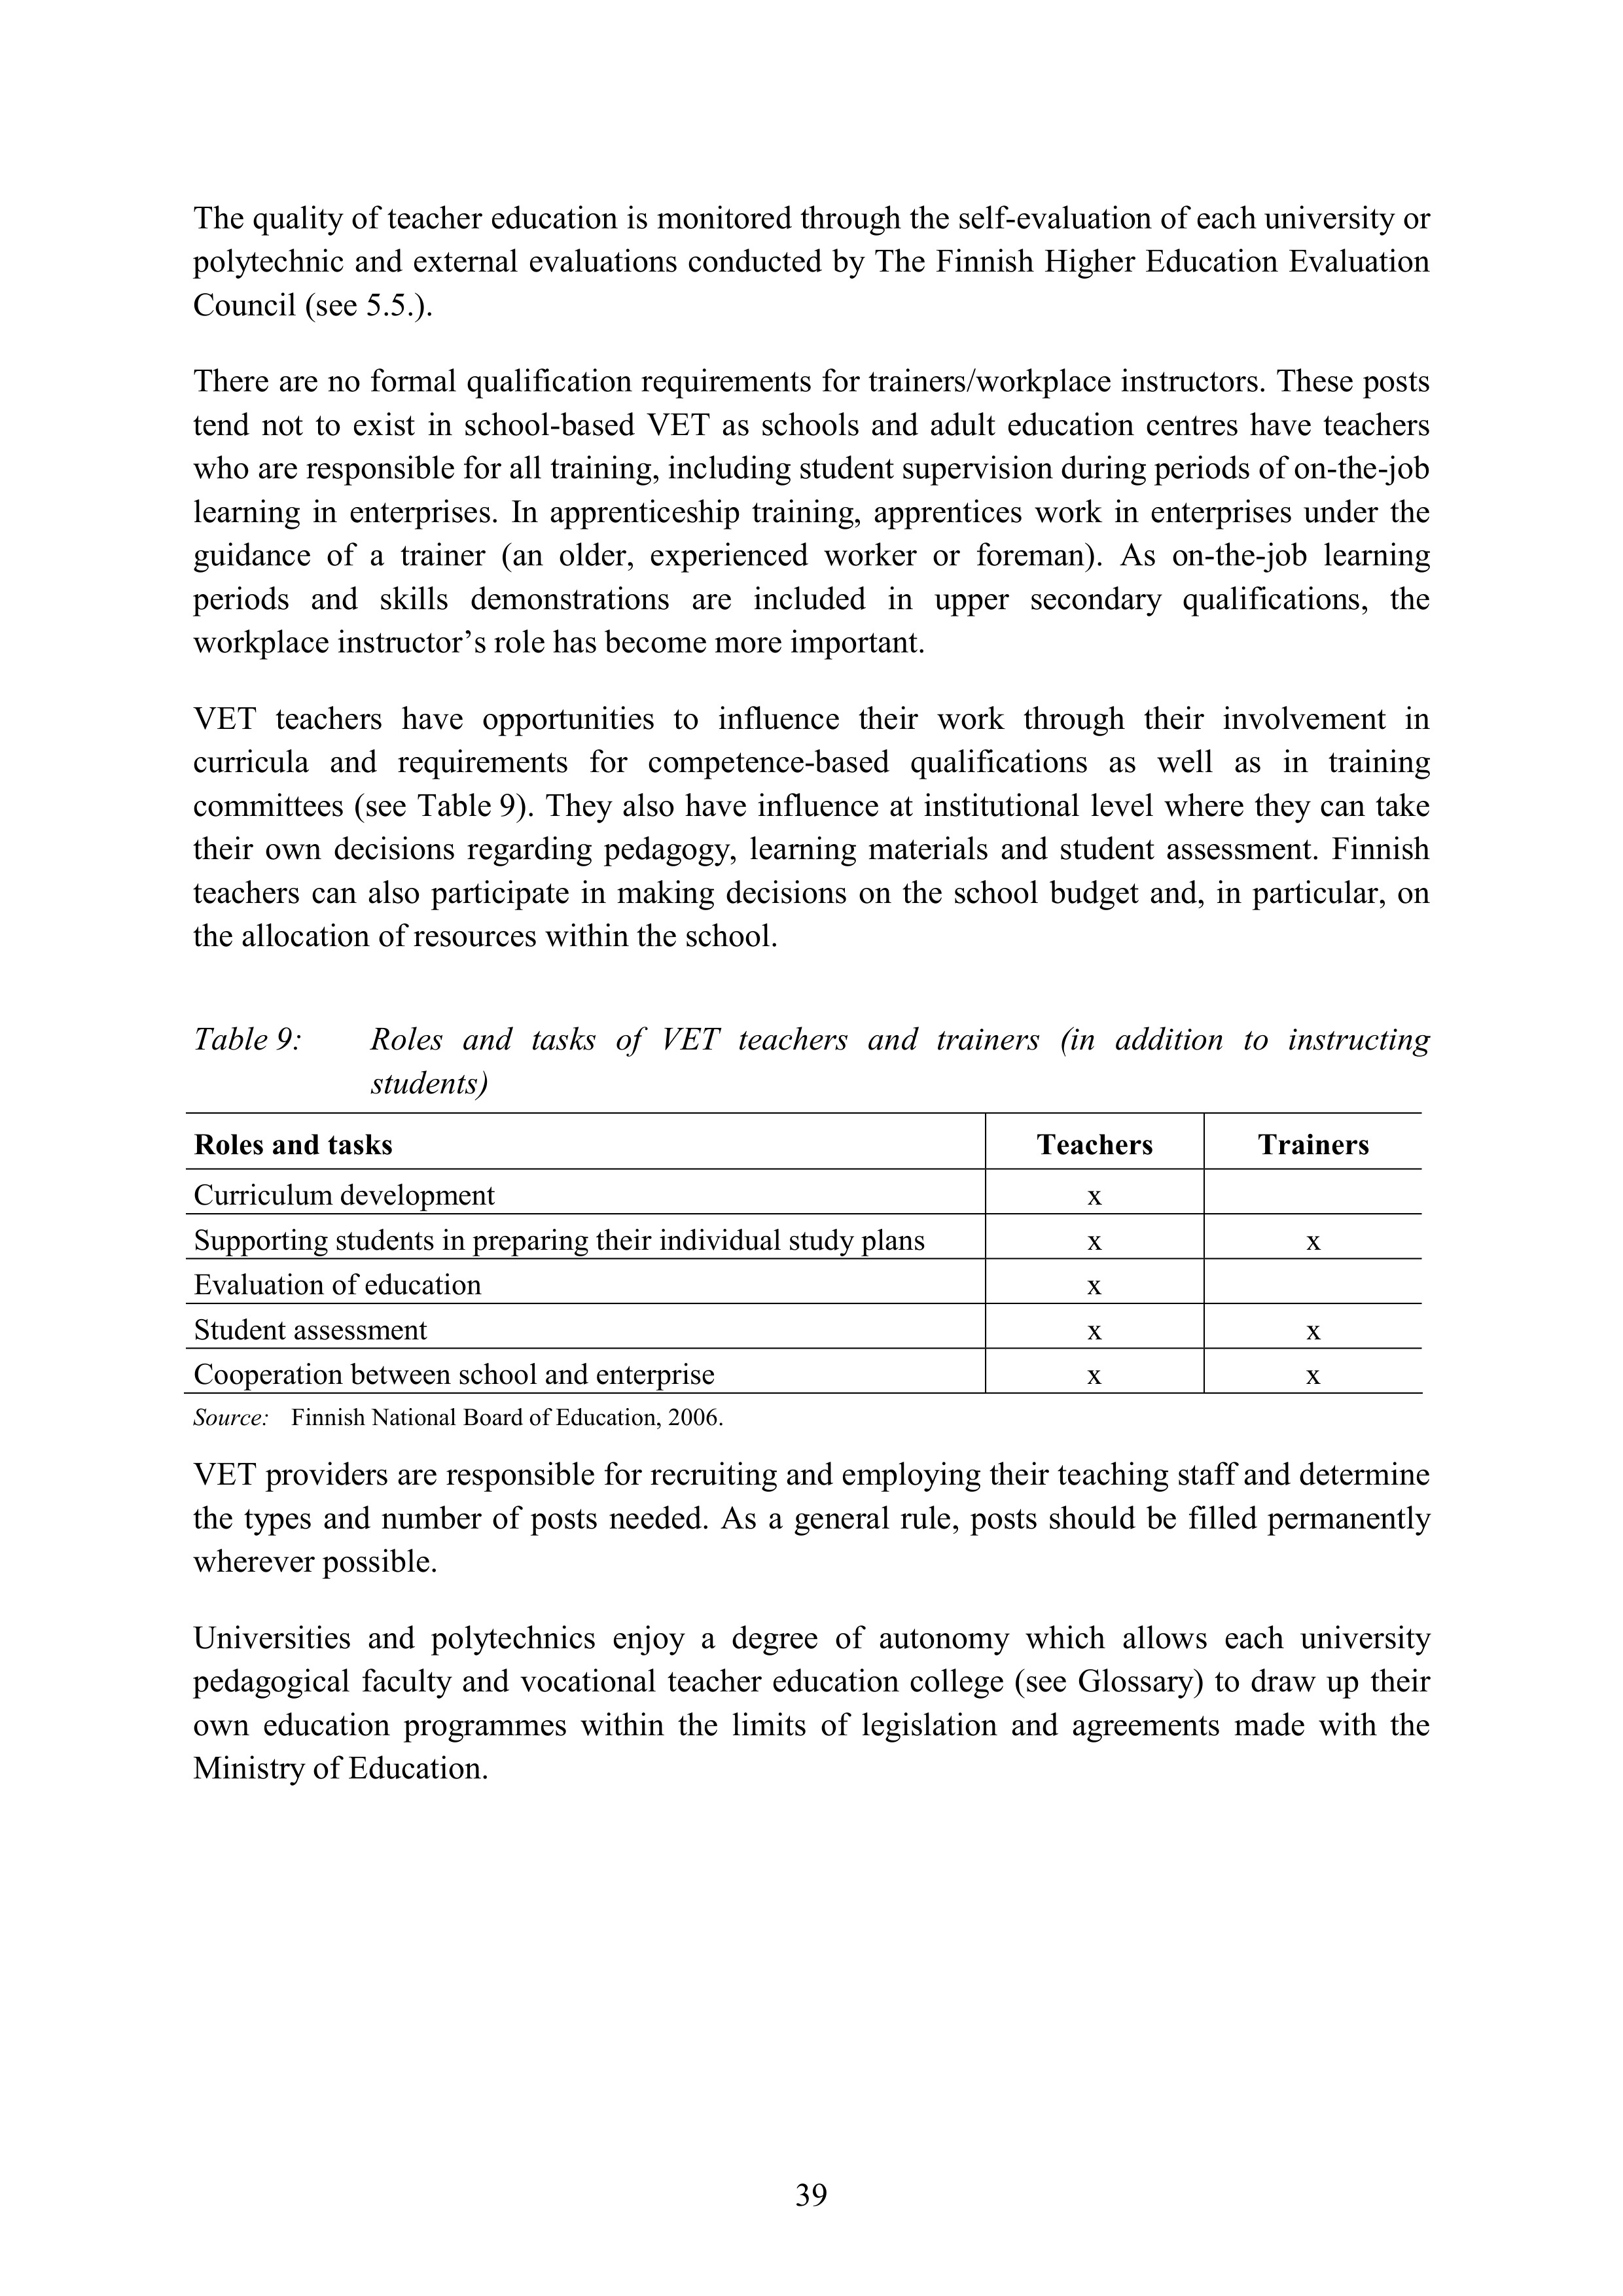table: (193, 1127, 1370, 1390)
